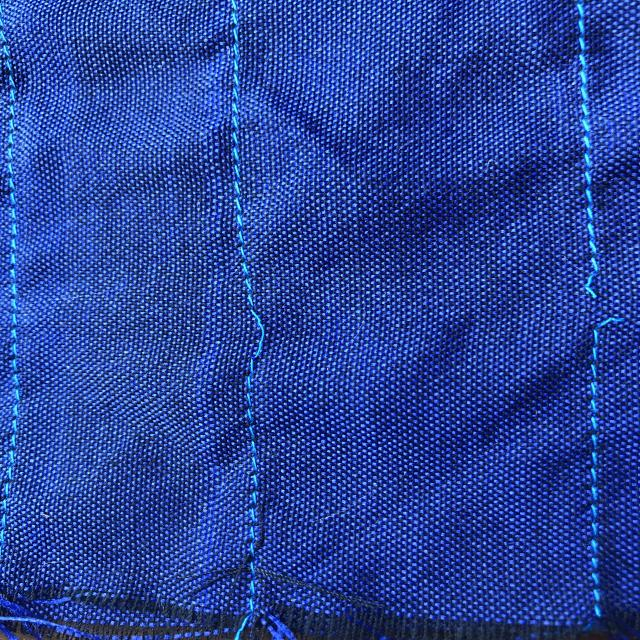broken: (543, 246, 631, 348)
good: (574, 392, 619, 535)
skip: (206, 289, 284, 378)
